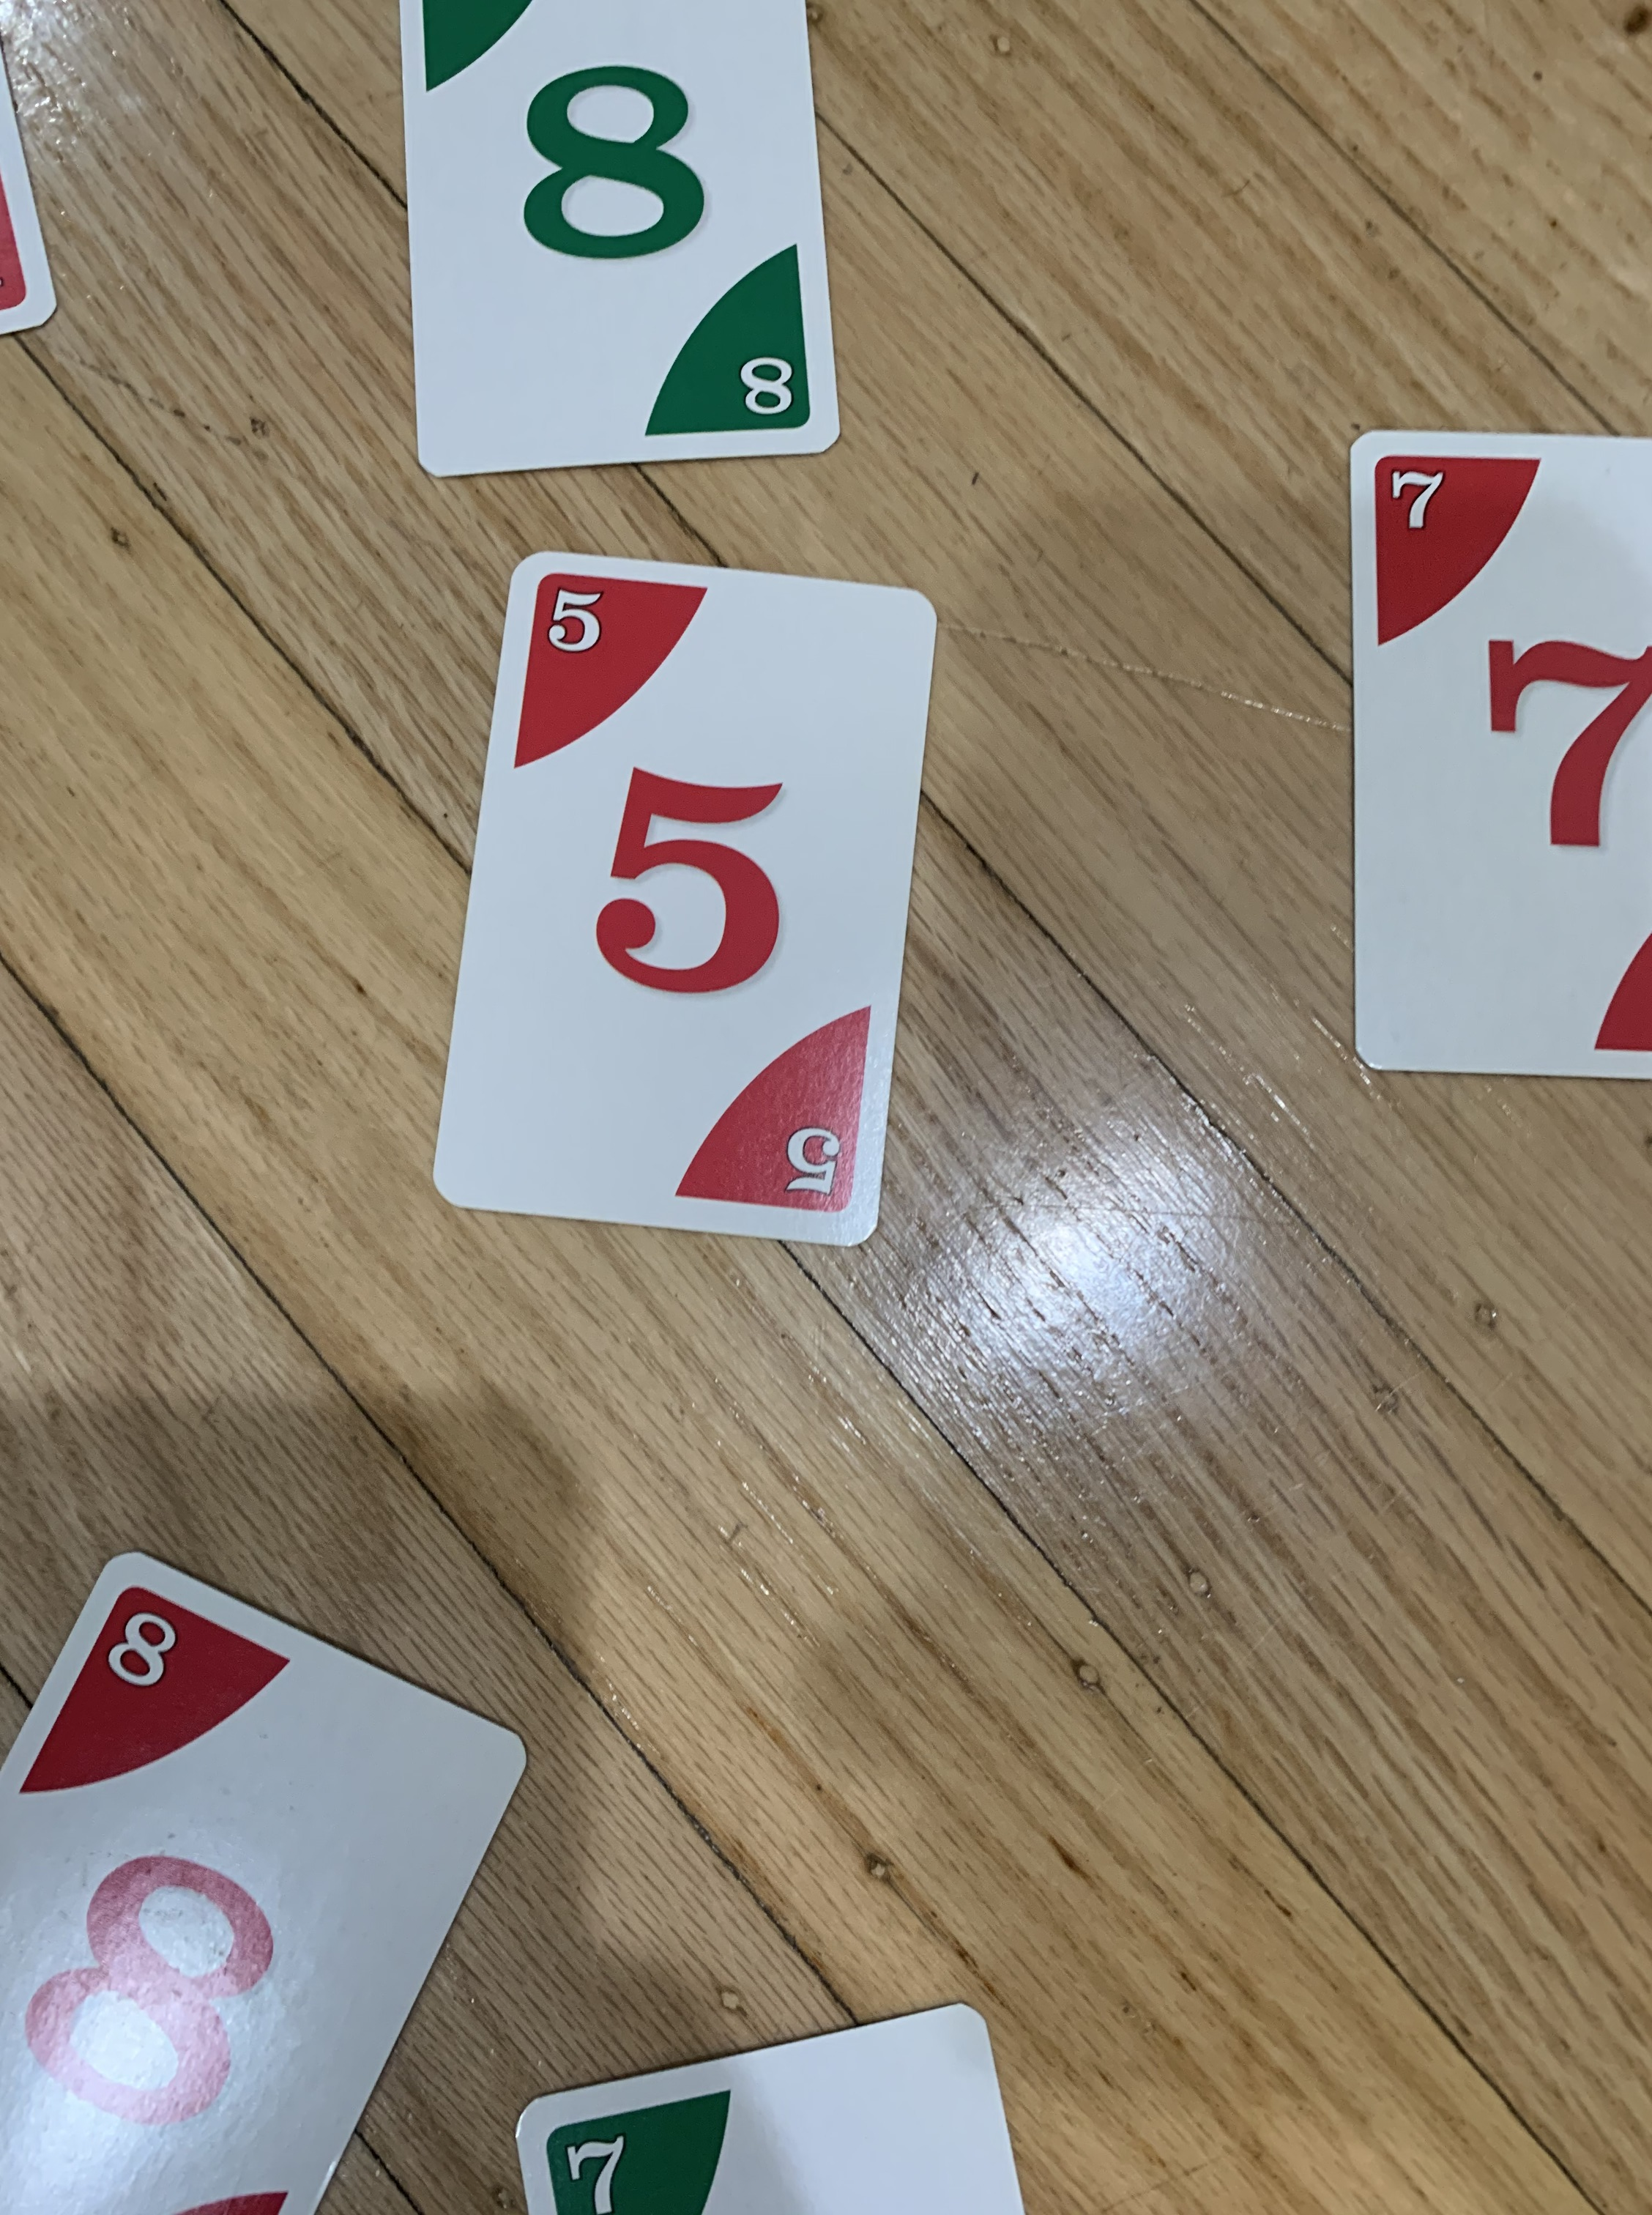eight: (5, 1535, 554, 2215), (378, 2, 866, 495)
five: (418, 542, 939, 1248)
seven: (1326, 410, 1652, 1097)
